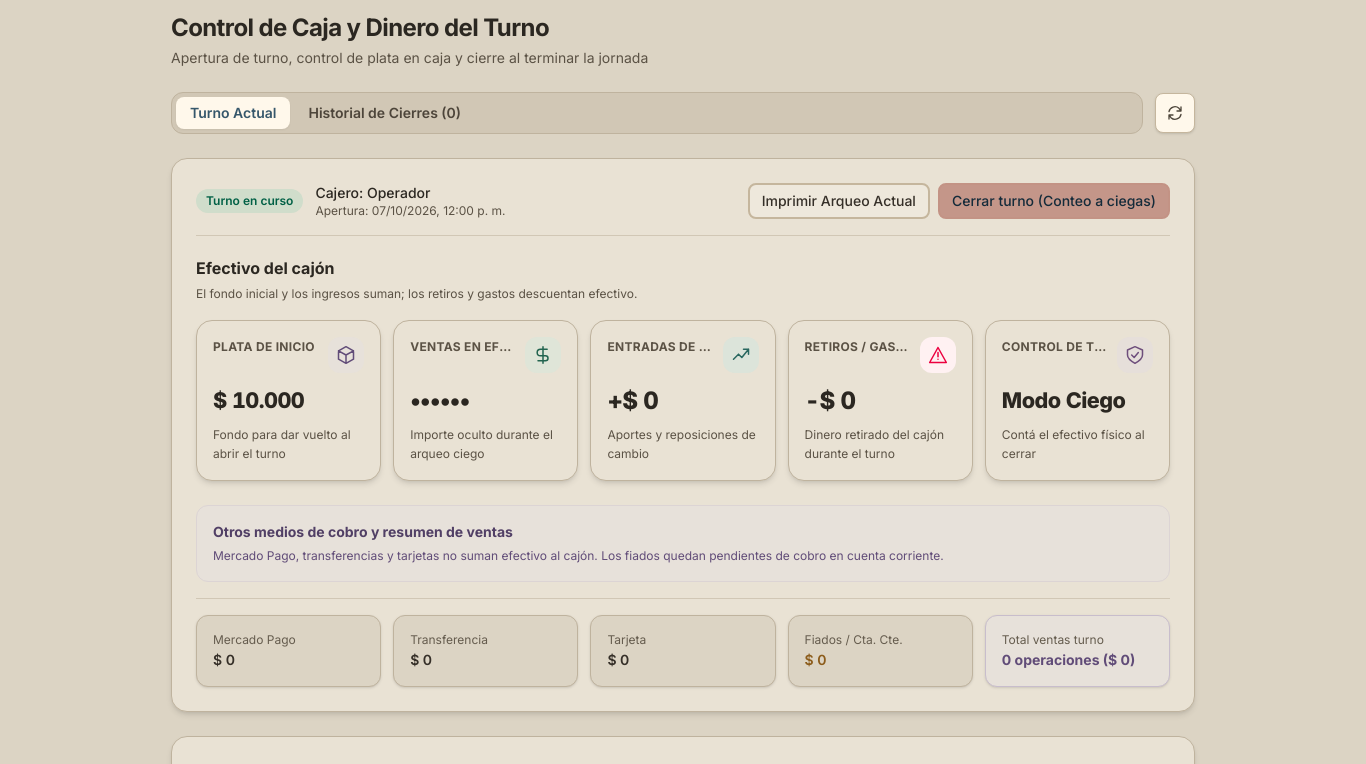
it: reserva el resumen de diferencias del historial al dueño
Click the button "Historial de Cierres (0)": (385, 113) x1=294 y1=97 x2=475 y2=129
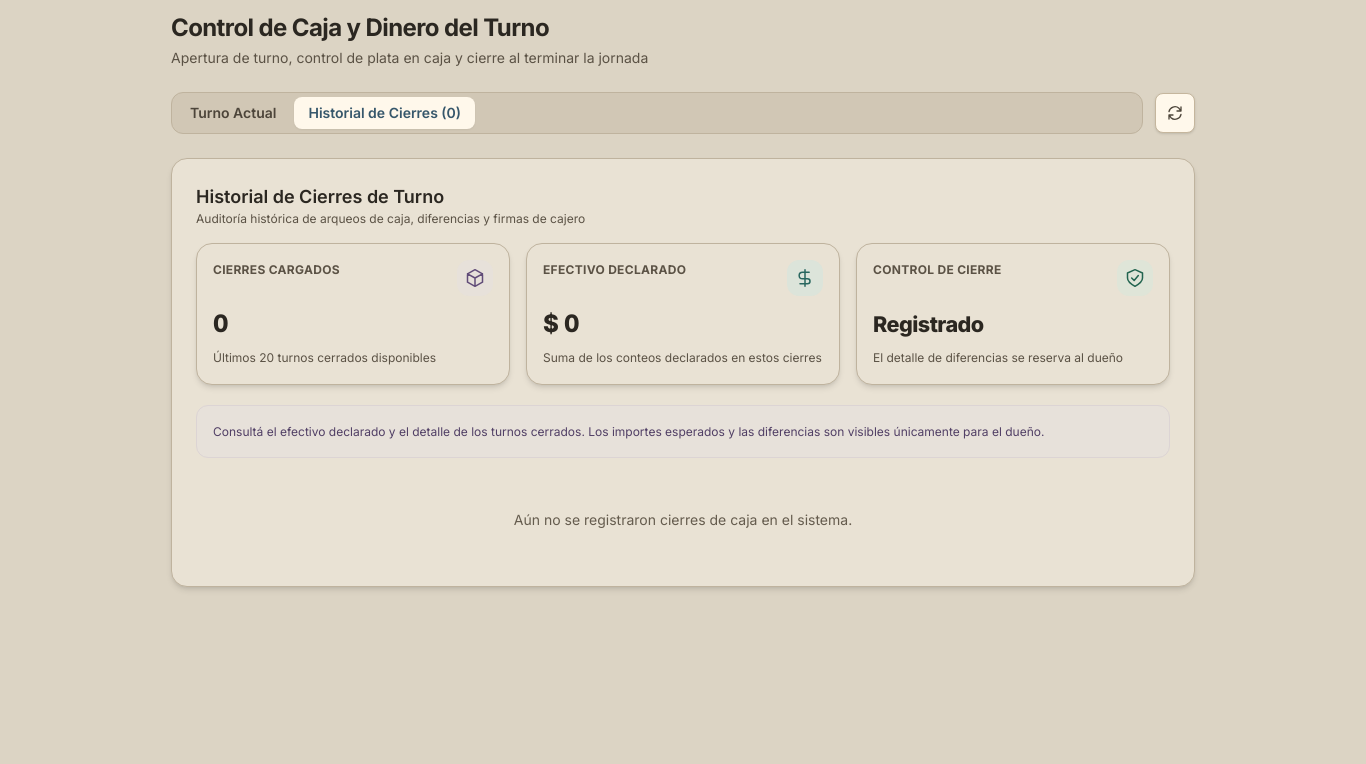
Check: the text "Control de cierre" is shown, box x1=873 y1=260 x2=1002 y2=280
